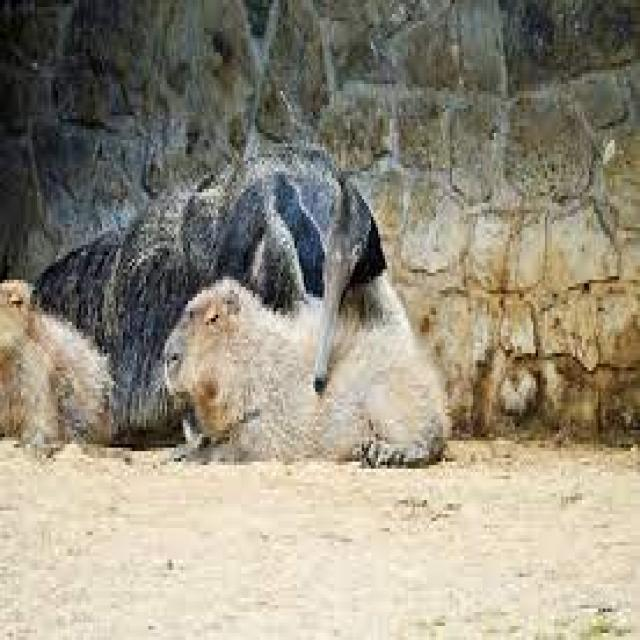capy: (160, 277, 453, 470), (0, 279, 115, 468)
